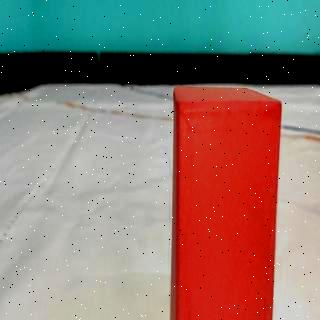greenbox: (172, 88, 276, 320)
